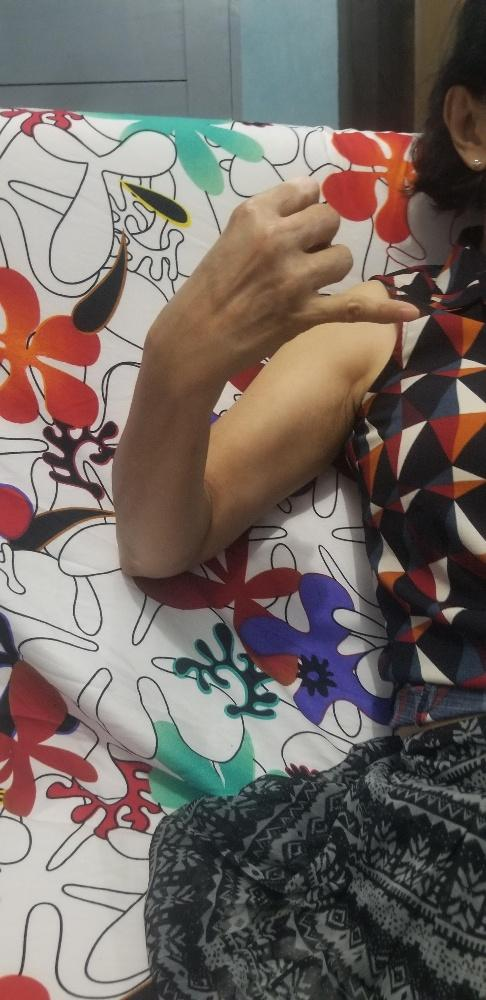j: (141, 175, 422, 385)
